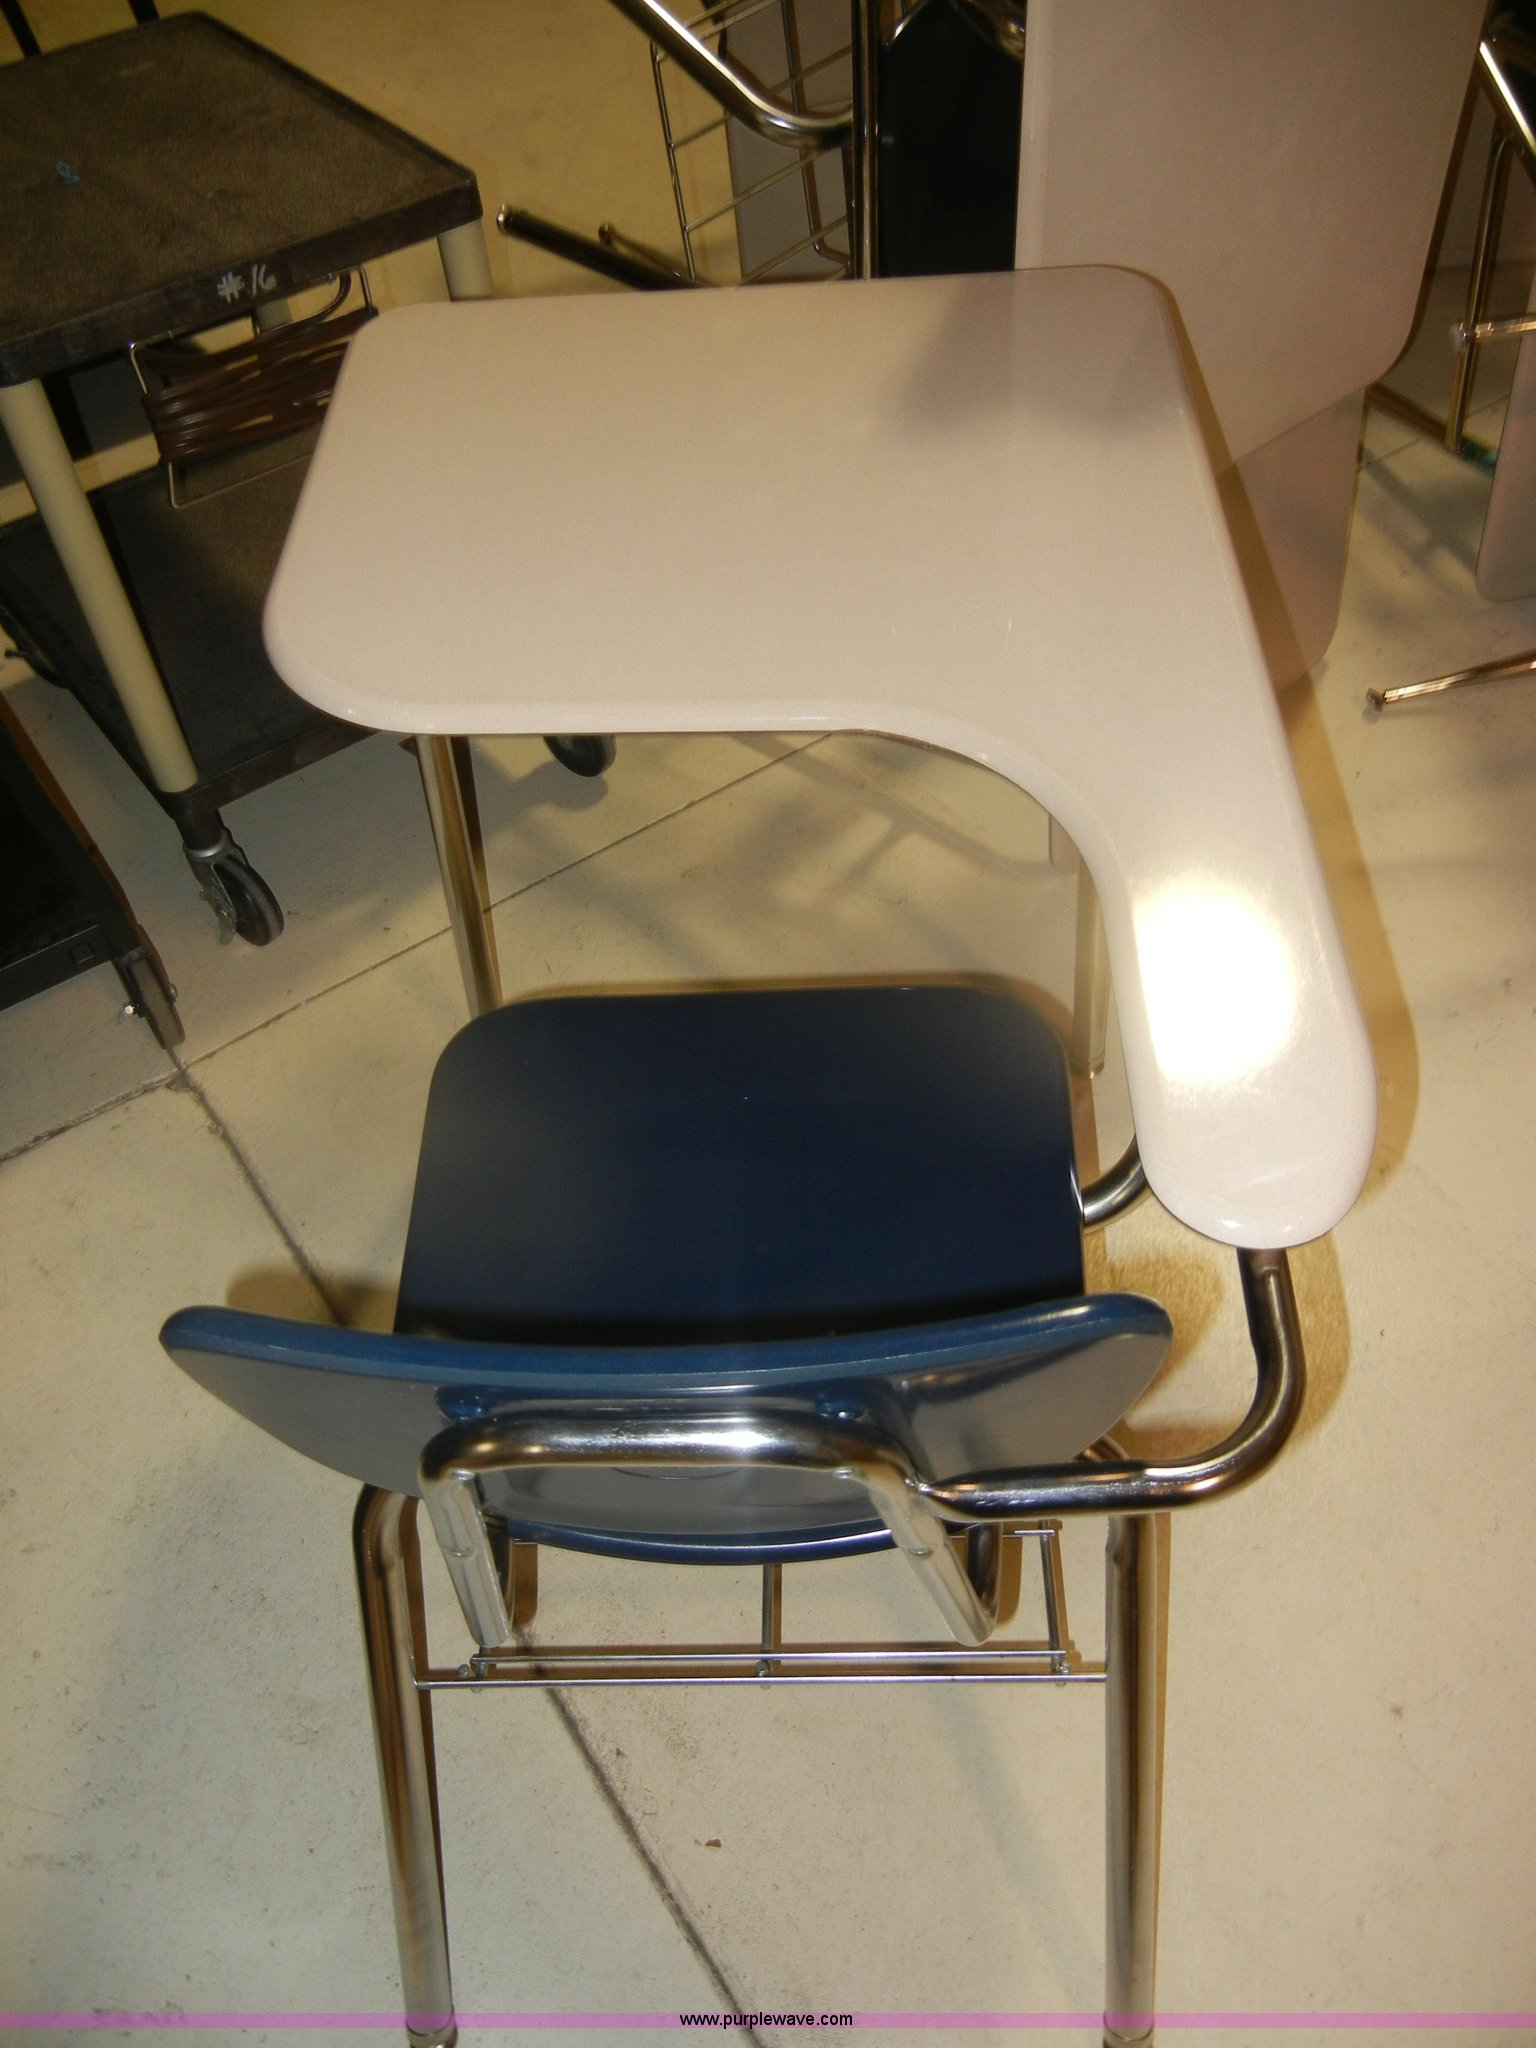desk: (134, 211, 1400, 1995)
